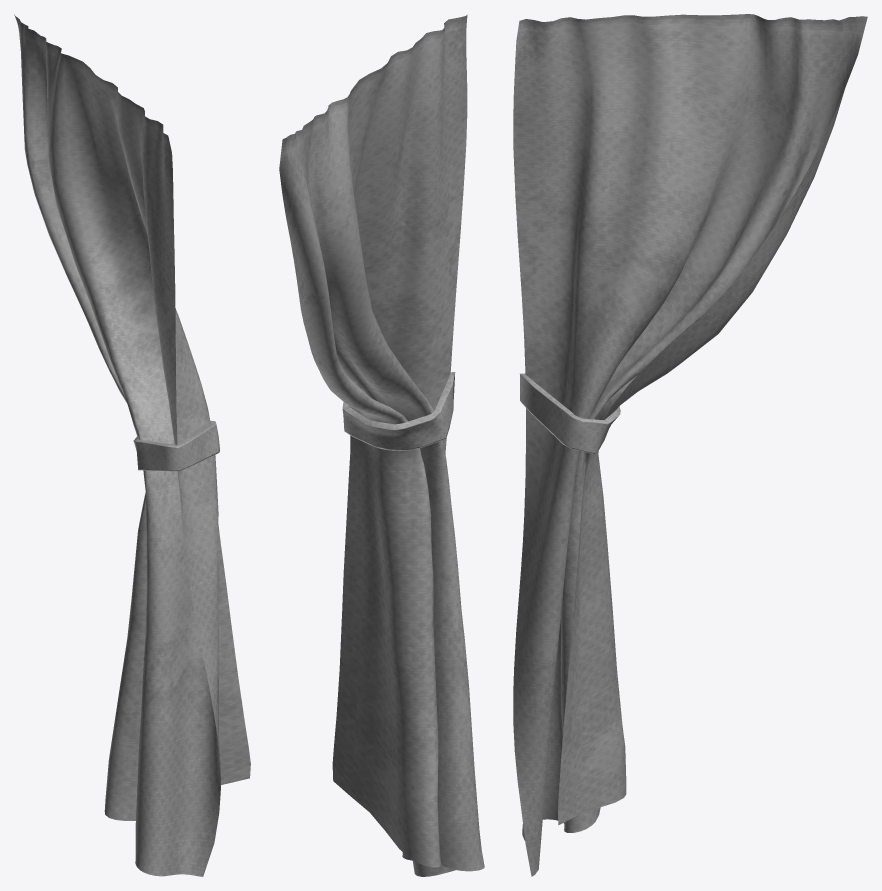
The model's file is SM_Fabric-Curtain-A.fbx.
3 renders of one model, left to right at view 1: azimuth 30°, elevation 25°; view 2: azimuth 150°, elevation 25°; view 3: azimuth 270°, elevation 25°, orthographic. The views are drawn at different scales.
Parts seen in each view (by area): view 1: SM_Fabric-Curtain-A_LOD0; view 2: SM_Fabric-Curtain-A_LOD0; view 3: SM_Fabric-Curtain-A_LOD0.
Boxes of the visible parts, x1=… form: SM_Fabric-Curtain-A_LOD0: x1=14, y1=14, x2=250, y2=876; SM_Fabric-Curtain-A_LOD0: x1=279, y1=14, x2=484, y2=876; SM_Fabric-Curtain-A_LOD0: x1=513, y1=14, x2=867, y2=876.
Bounding box in the file's own units: 58.18 × 133 × 349.
2 materials, 2 textured.
